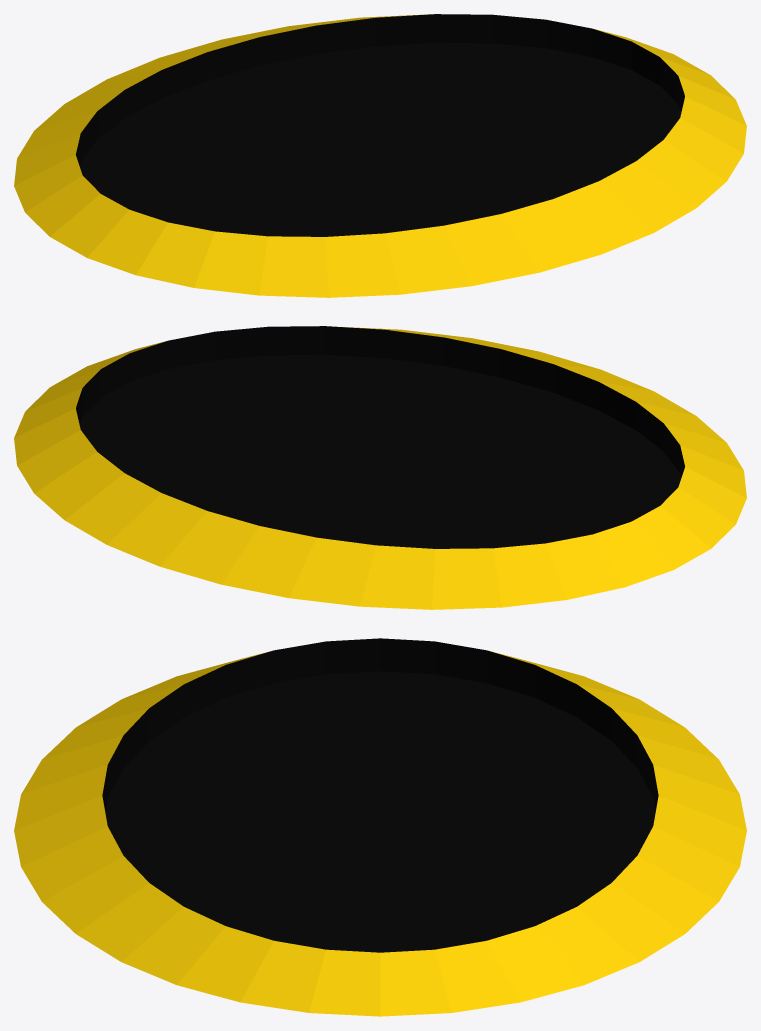
The model's file is CircularFretBase.fbx.
3 renders of one model, top to bottom at view 1: azimuth 30°, elevation 25°; view 2: azimuth 150°, elevation 25°; view 3: azimuth 270°, elevation 25°, orthographic. The views are drawn at different scales.
Visible parts, largest first — view 1: Cylinder.012; view 2: Cylinder.012; view 3: Cylinder.012.
Boxes of the visible parts, left/top/right/bottom form: Cylinder.012: left=14, top=14, right=746, bottom=297; Cylinder.012: left=14, top=326, right=746, bottom=609; Cylinder.012: left=14, top=638, right=746, bottom=1016.
Bounding box in the file's own units: 58.42 × 2.58 × 48.7.
